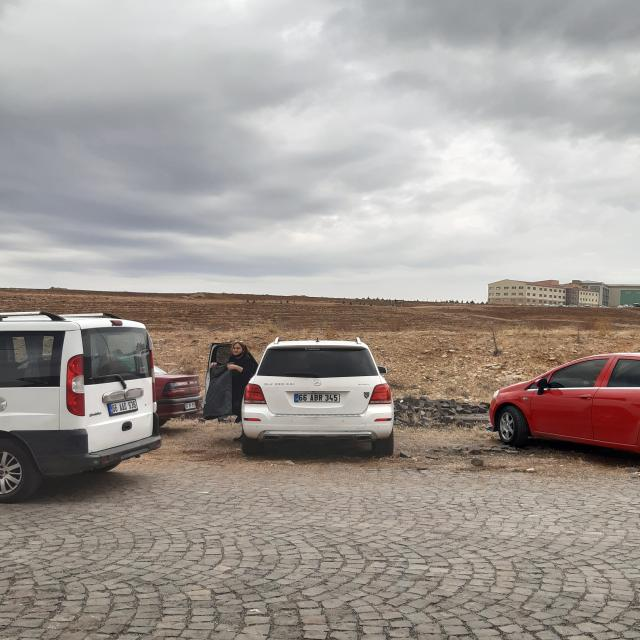plate: (294, 394, 340, 402)
